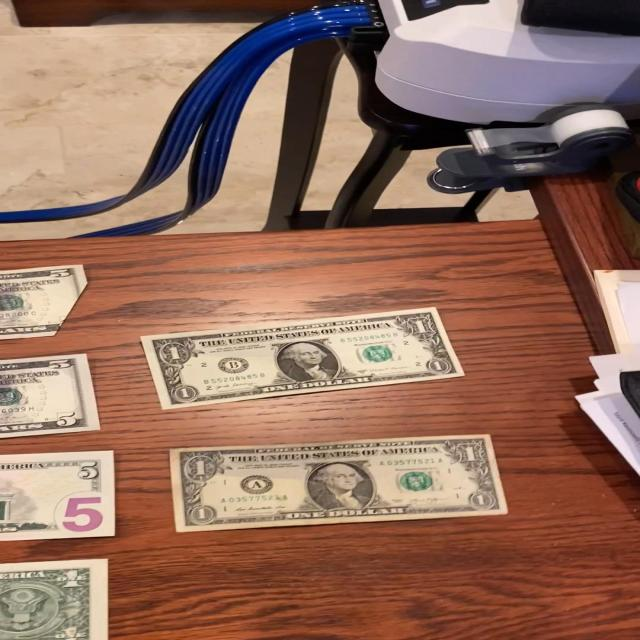1-Front: (133, 304, 464, 427), (162, 430, 507, 535)
5-Back: (1, 466, 112, 561), (5, 363, 99, 458)
5-Front: (0, 265, 88, 353)
